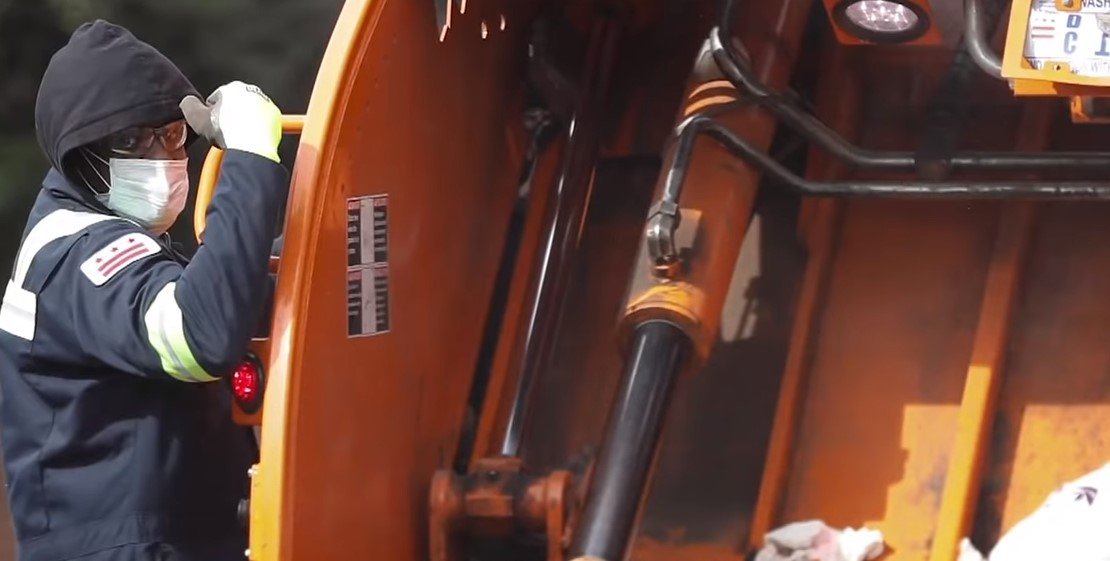face_with_mask: (37, 20, 194, 229)
